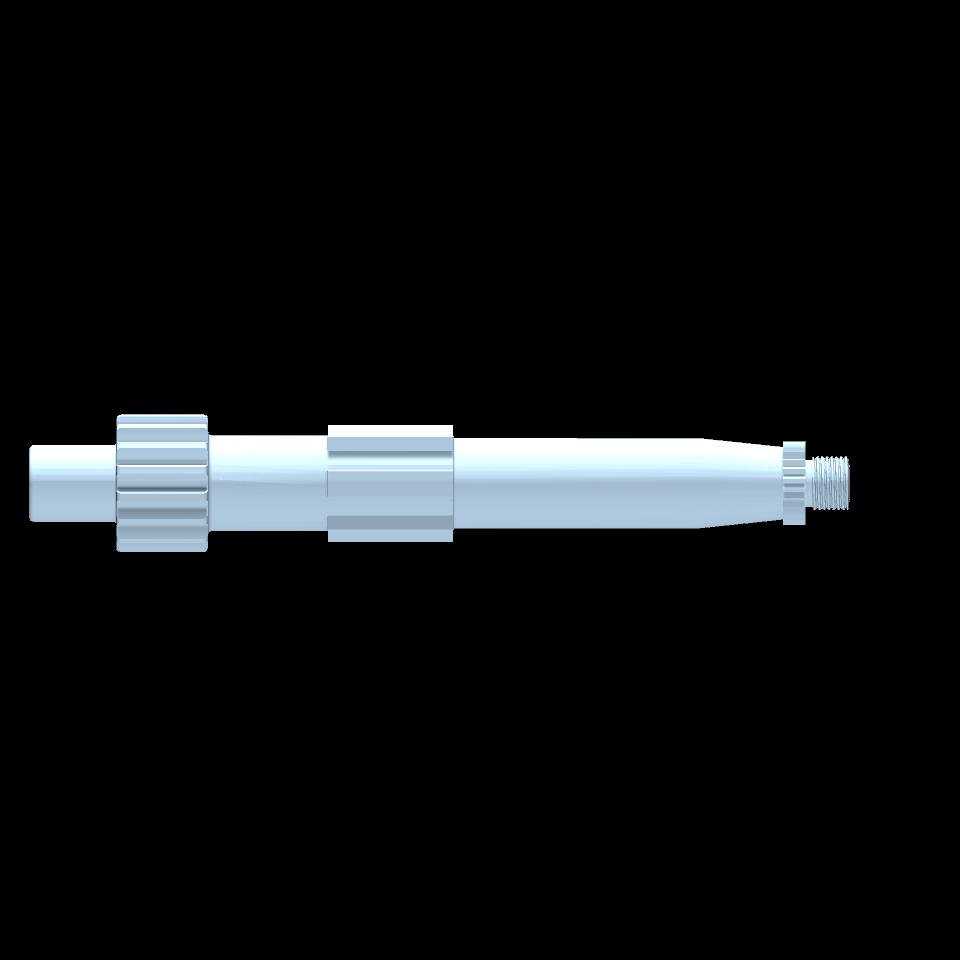Straight: (328, 426, 453, 543), (118, 415, 205, 547), (784, 443, 806, 525)
